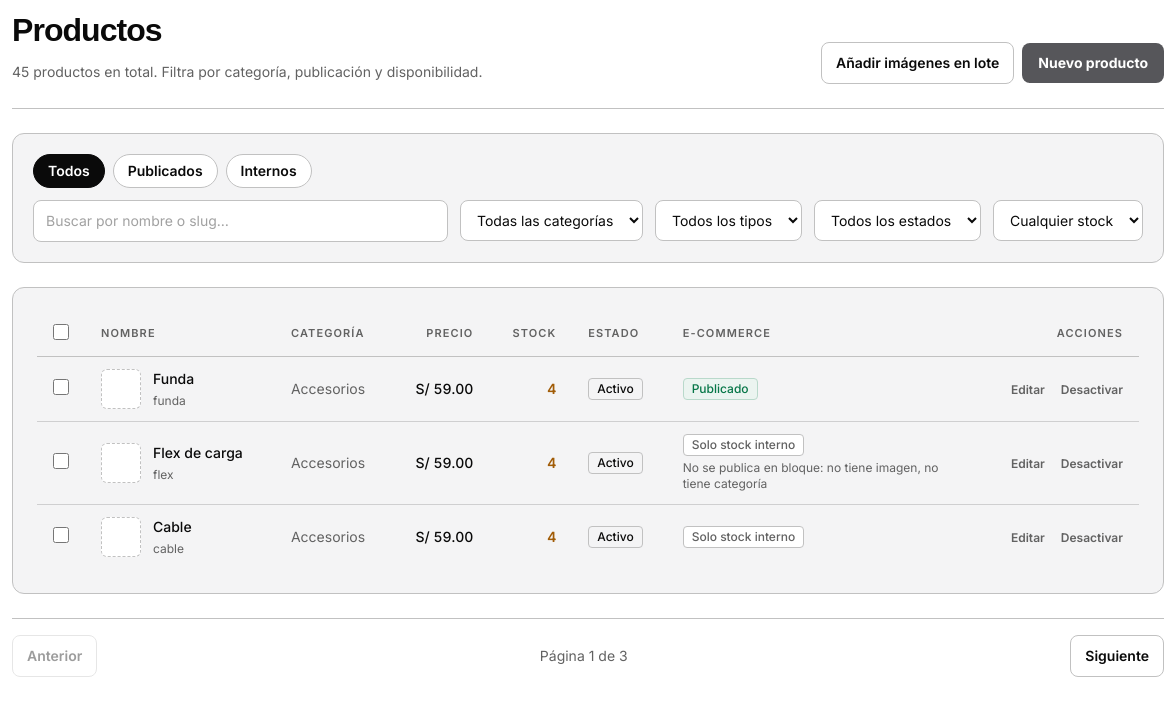
la selección › cambiar de página también: no se confirma sobre filas que ya no se ven
The image size is (1176, 708).
Check: the link "Funda" is shown, box [153,370,194,387]
Step 1. Click the checkbox named "Seleccionar Funda" → (61, 387), box [53,379,69,395]
(page scrolled)
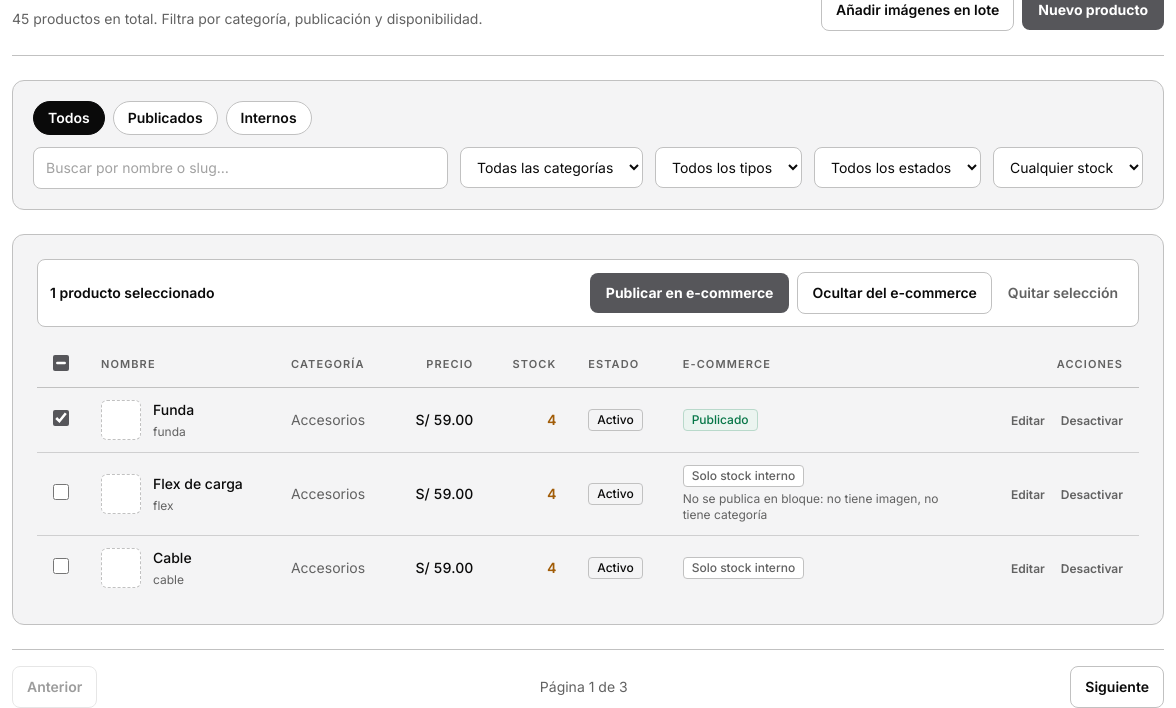
Step 2. Click the button "Siguiente" → (1117, 687), box [1070,666,1164,707]
(page scrolled)
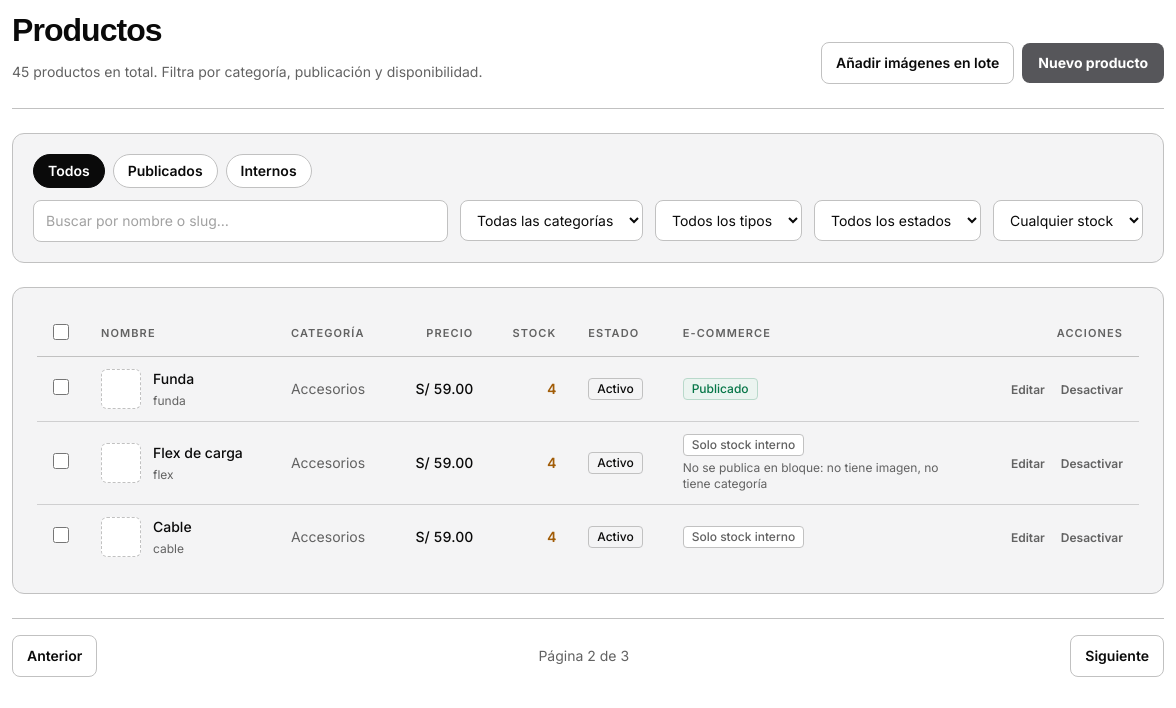
Check: the link "Funda" is shown, box [153,370,194,387]
Check: the checkbox named "Seleccionar Funda" is not checked, box [53,379,69,395]
Check: the text "seleccionado" is gone
